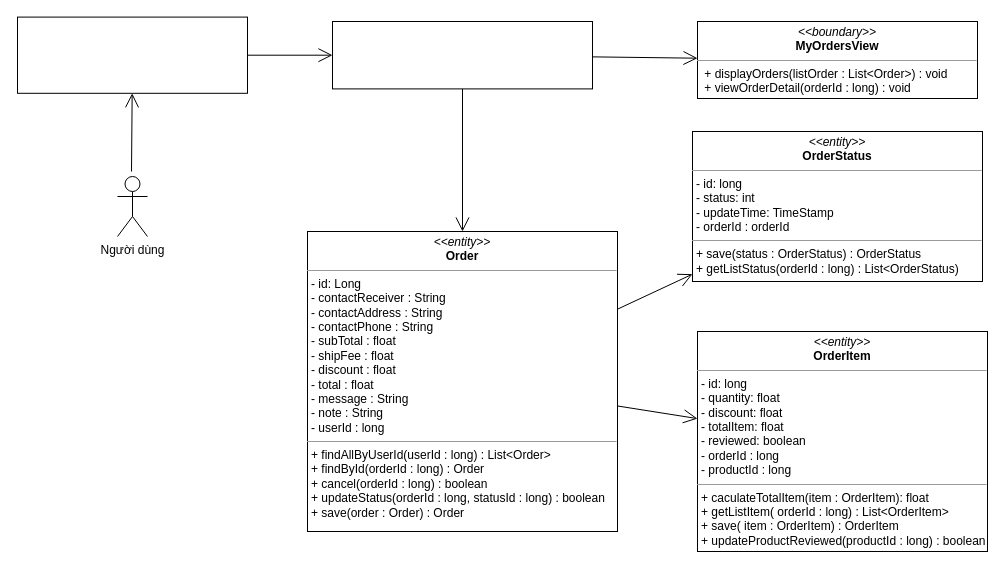
The diagram is 1005 pixels wide and 570 high, and some of its shapes have lost their labels. Each missing label, with the centre of its shape:
"<<boundary>> HomePageView + viewOrdersHistory(url : String) : void" goes at point 132,54.
"<<controller>> OrderController + getOrdersHistory(userId : long) : List<Order>" goes at point 462,54.
